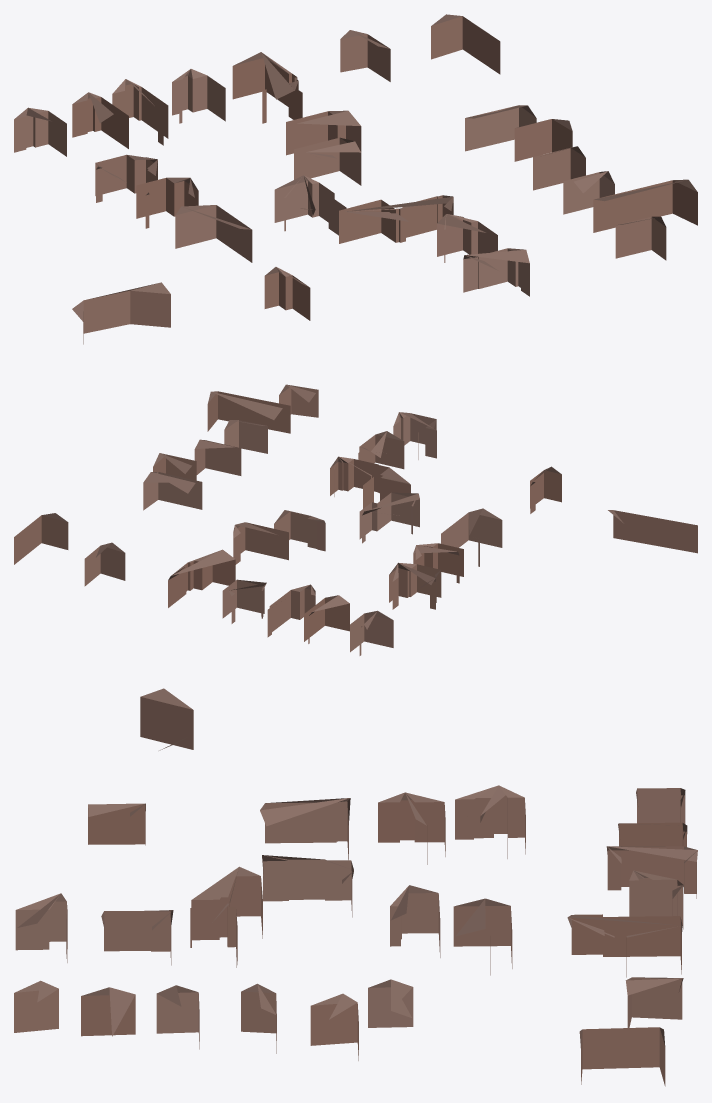
File: c_1638_17834_buildings_residential.glb
3 views of the same model, one above another, from view 1: azimuth 30°, elevation 25°; view 2: azimuth 150°, elevation 25°; view 3: azimuth 270°, elevation 25° (orthographic). The views are drawn at different scales.
Visible parts, largest first — view 1: geometry_0; view 2: geometry_0; view 3: geometry_0.
Part boxes in pixels (box(x1,y1,x2,y2)): geometry_0: box(14, 14, 697, 344); geometry_0: box(14, 384, 697, 655); geometry_0: box(14, 688, 697, 1086).
Bounding box in the file's own units: 170 × 10.68 × 139.
